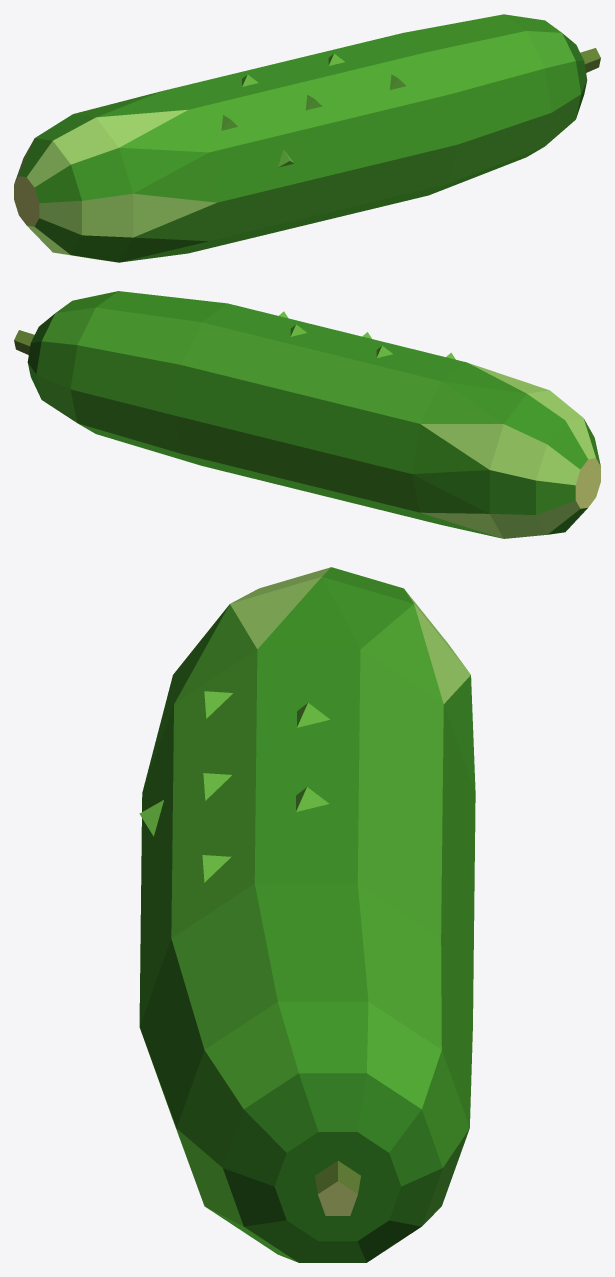
Rendered from FMS_Veg_Cucumber.fbx.
3 renders of one model, top to bottom at view 1: azimuth 30°, elevation 25°; view 2: azimuth 150°, elevation 25°; view 3: azimuth 270°, elevation 25°, orthographic. The views are drawn at different scales.
Visible parts, largest first — view 1: item_produce_cucumber; view 2: item_produce_cucumber; view 3: item_produce_cucumber.
Boxes of the visible parts, x1,y1,x2,y2 form: item_produce_cucumber: (14, 14, 600, 262); item_produce_cucumber: (14, 291, 600, 538); item_produce_cucumber: (139, 567, 475, 1262).
Bounding box in the file's own units: 0.209 × 0.0534 × 0.0534.
Materials: 1 (1 with a texture image).
